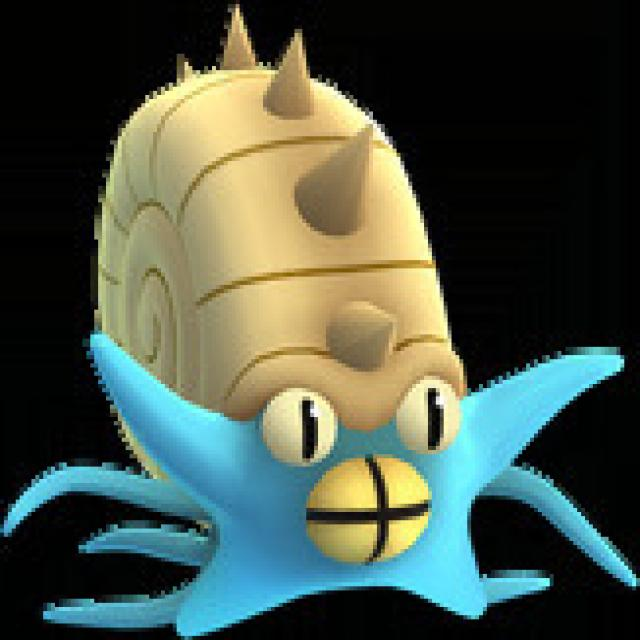Omastar: (80, 24, 507, 631)
